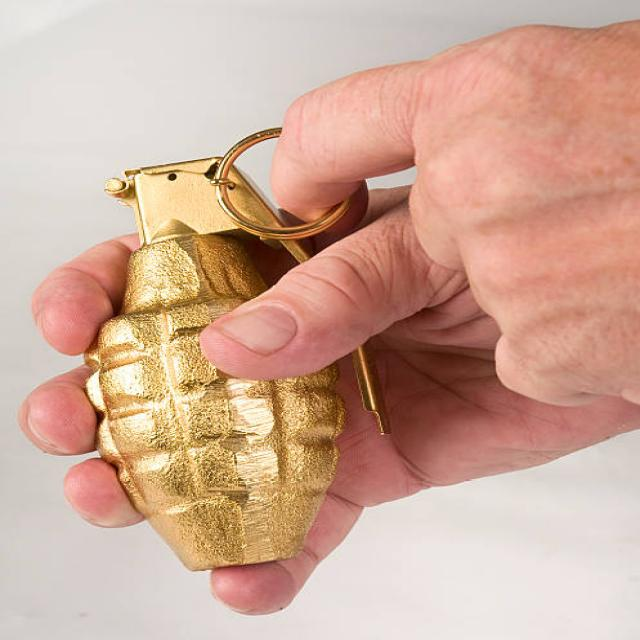grenade: (82, 125, 405, 572)
